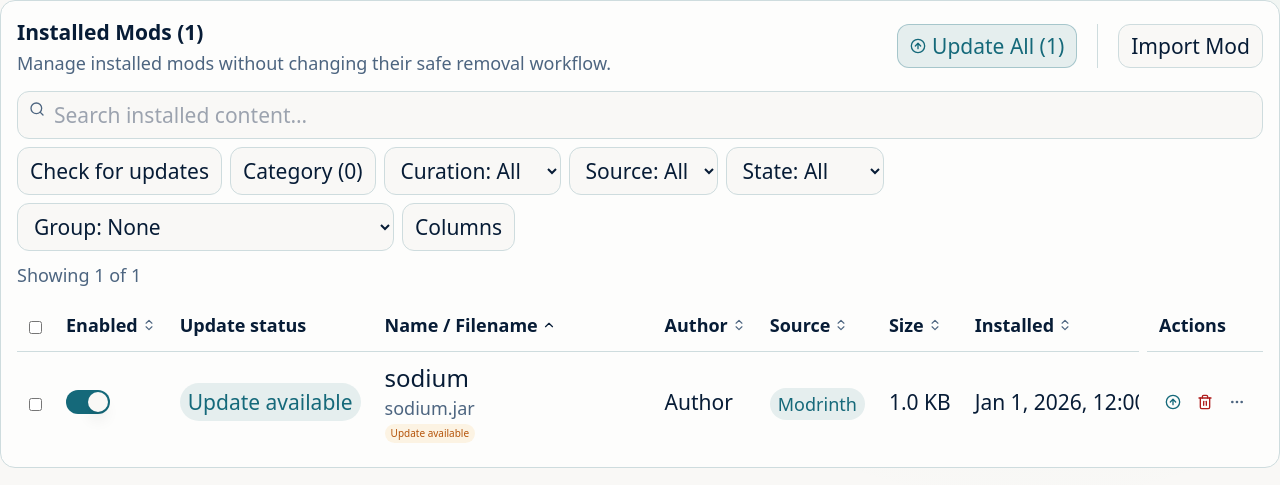
Scenario: InstalledContentPanel Update All › lets an explicit check overwrite a stale cached seed
Check: the button "Update All (1)" is shown, box 897,24 -> 1077,68
Step 1. Click the button "Check for updates" → [120, 171], box 17,147 -> 222,195
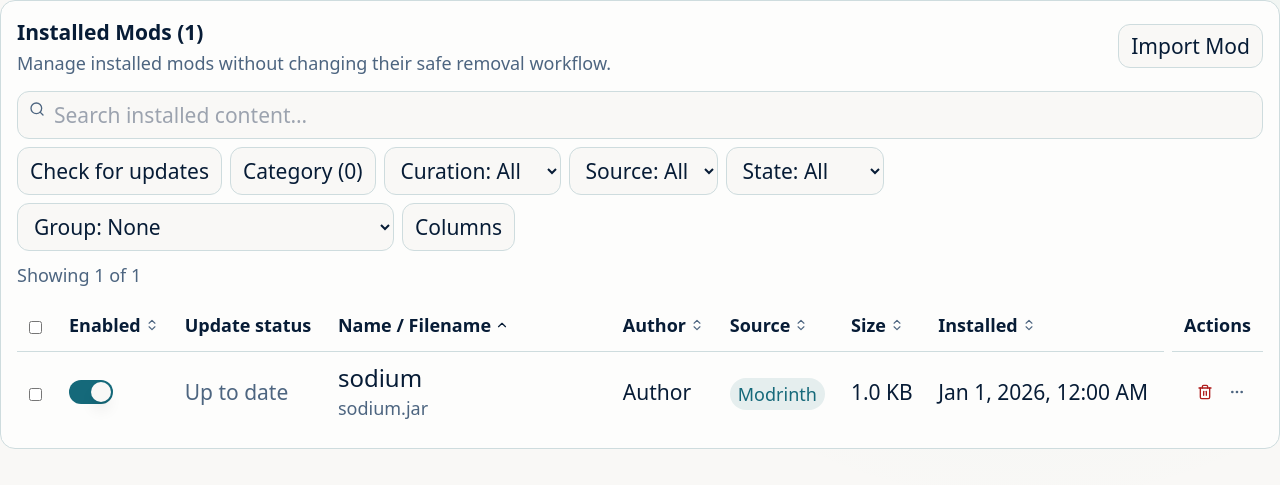
Check: the button "Update All" is gone
